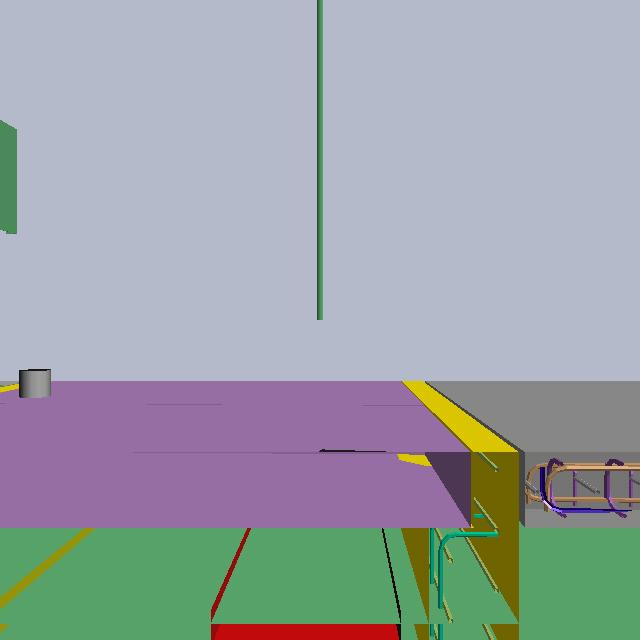Poste: (312, 1, 325, 322)
